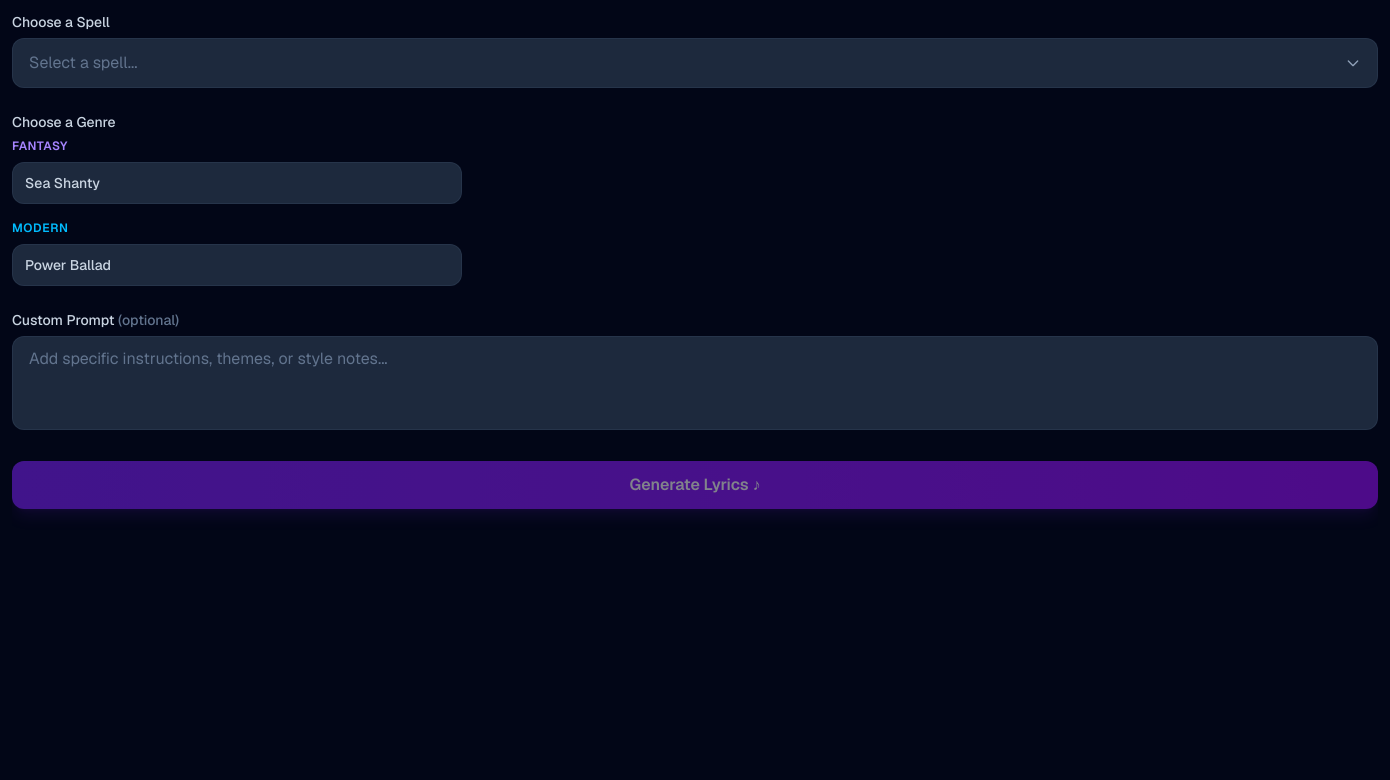
Test: GenerateForm › shows the API error and clears loading when generation fails
Click the button "Select a spell..." at (83, 62), box [12,38,1378,88]
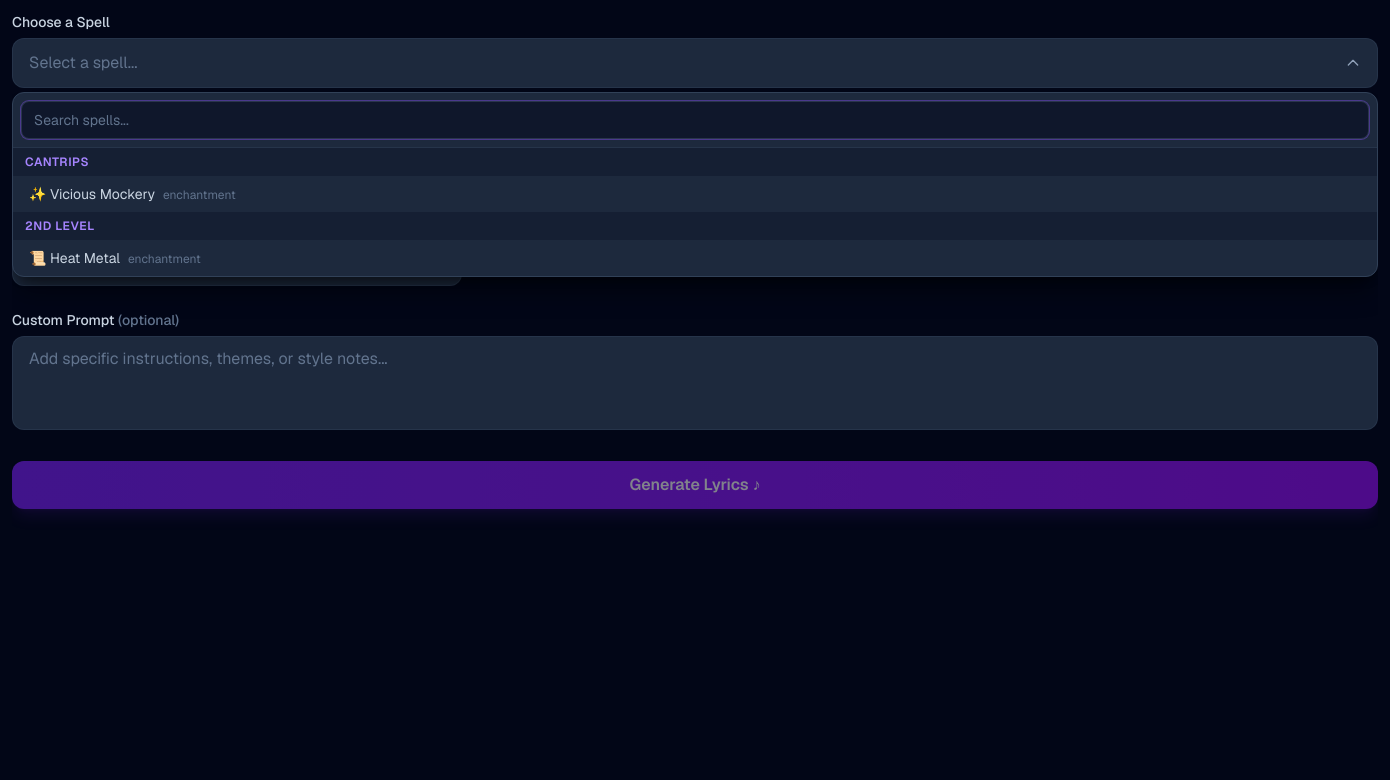
Click the button "Vicious Mockery" at (102, 194), box [13,176,1377,212]
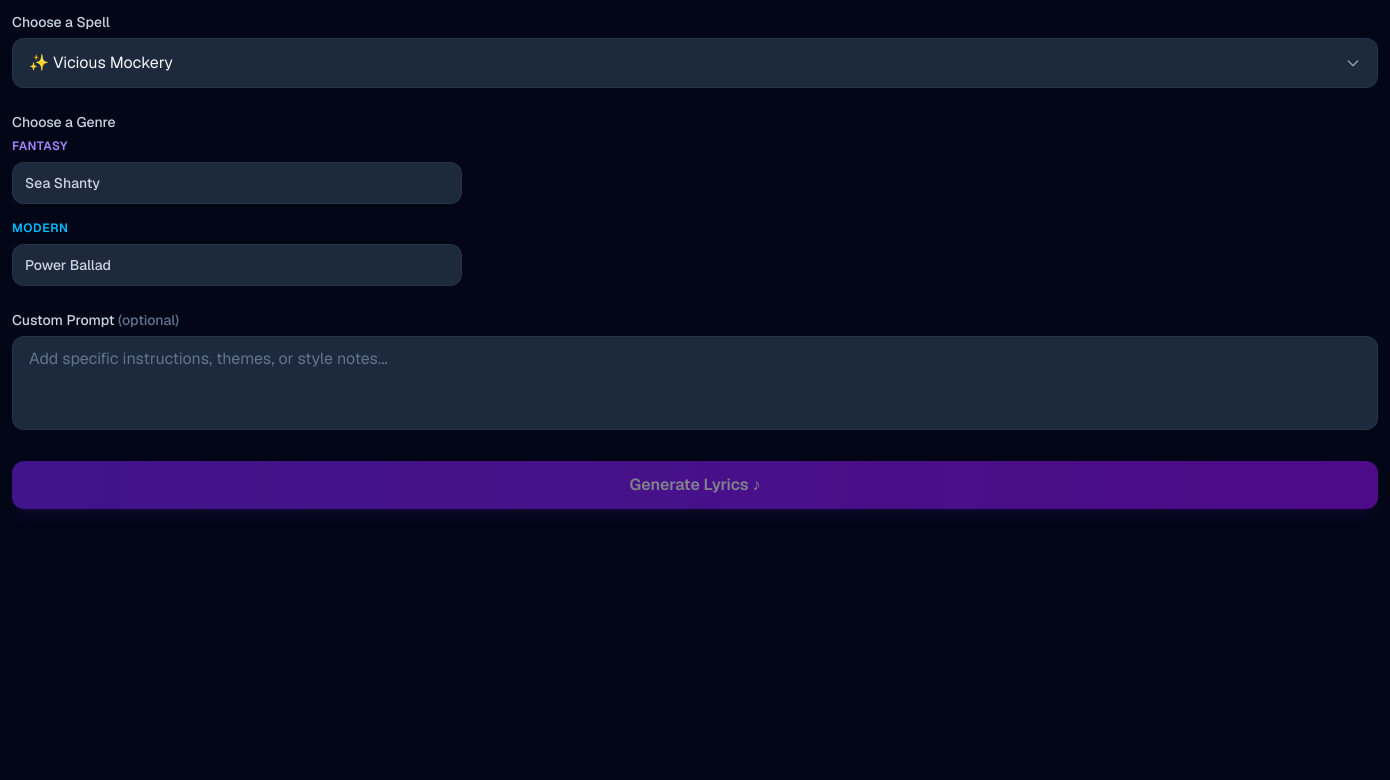
Click the button "Sea Shanty" at (63, 183), box [12,162,462,204]
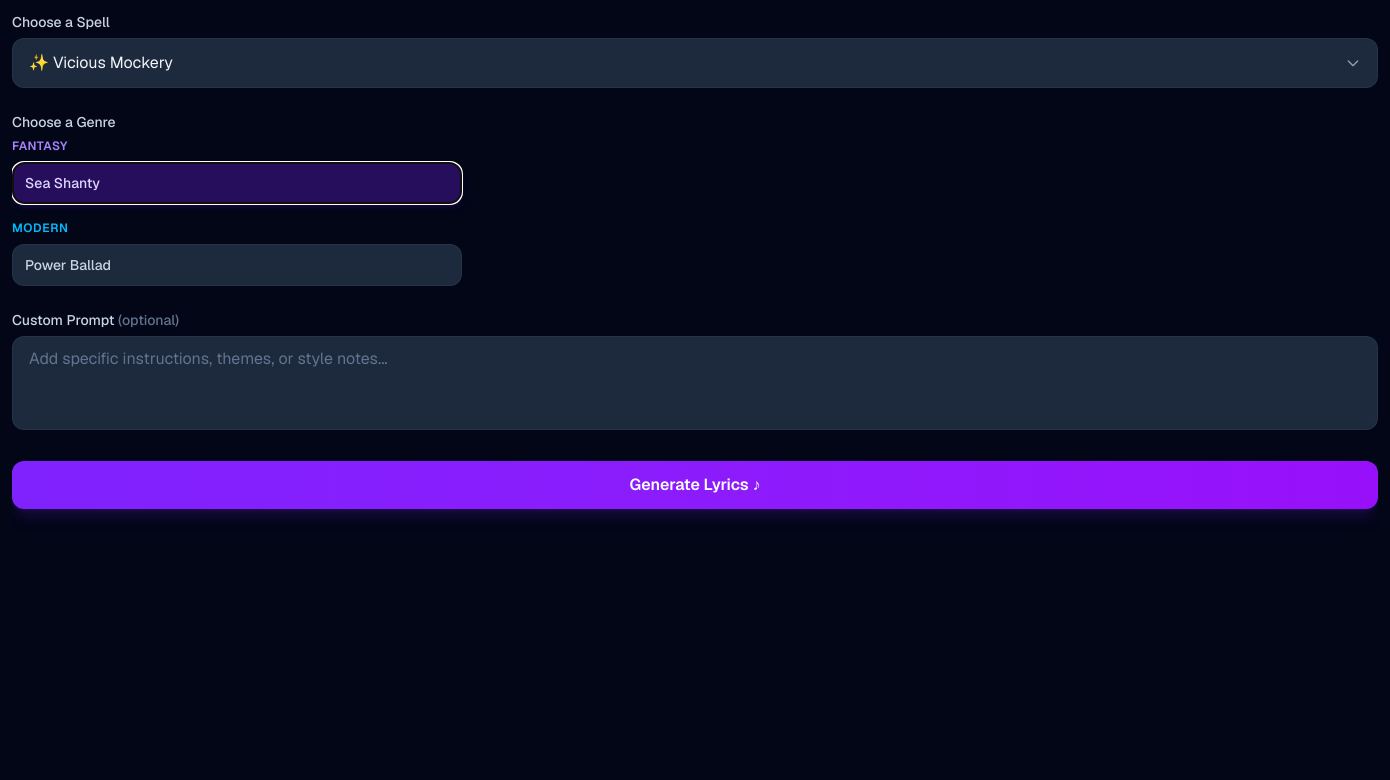
Click the button "Generate Lyrics ♪" at (695, 485), box [12,461,1378,509]
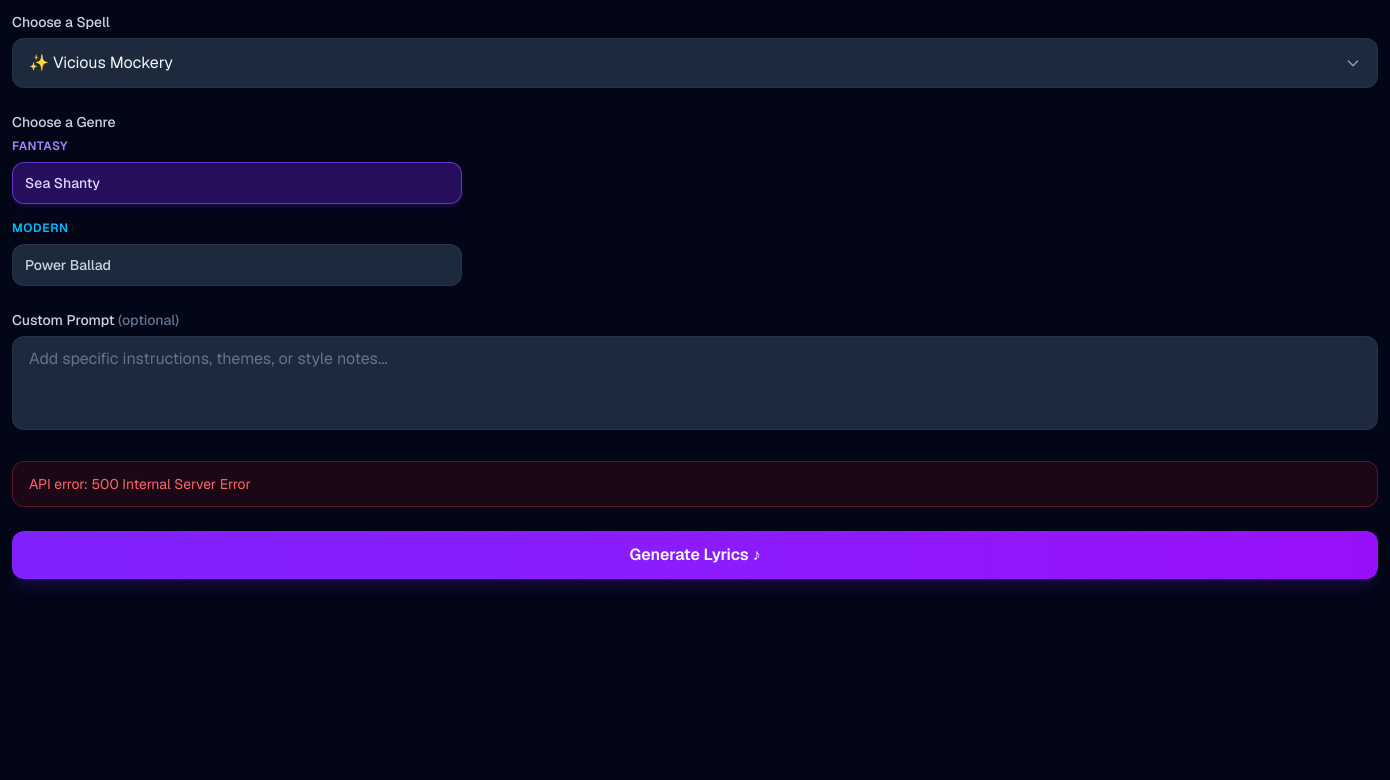
Now the button "Generate Lyrics ♪" is enabled, box [12,531,1378,579]
Now the text "API error: 500 Internal Server Error" is shown, box [12,461,1378,507]
